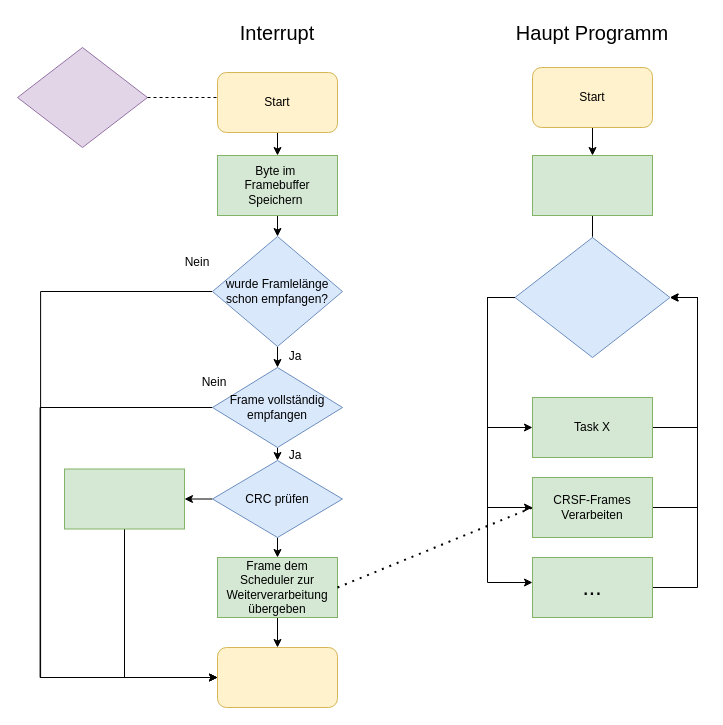
Image size: 723x725. Some labels were removed from this diagram. Here are the shapes that lost their labels. From the top down, the centre of each, then its label:
point (82, 97): UART- Perepherie empfängt Byte
point (592, 185): Initalisation
point (592, 297): Scheduler: Welche Task muss ausgeführt werden?
point (124, 498): Frame Verwerfen
point (277, 677): Ende
